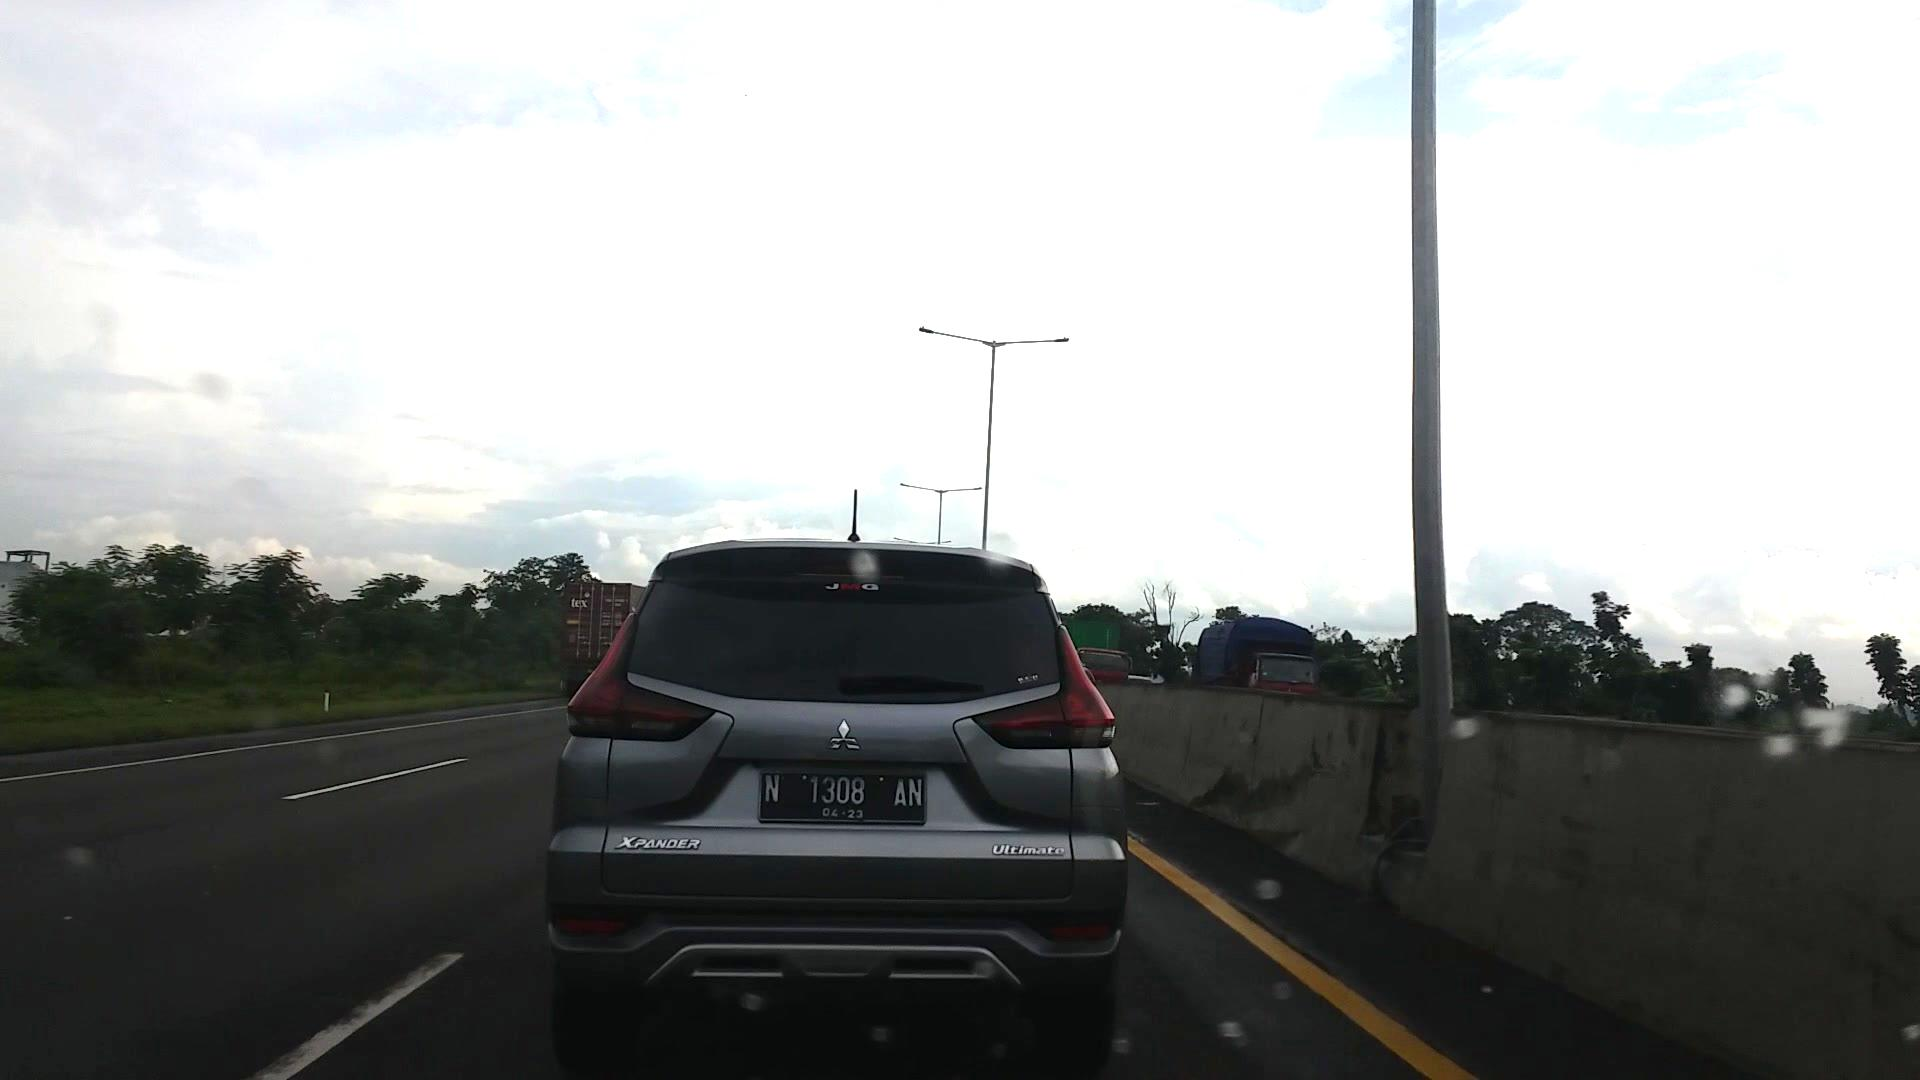plate_positive: (758, 770, 924, 825)
